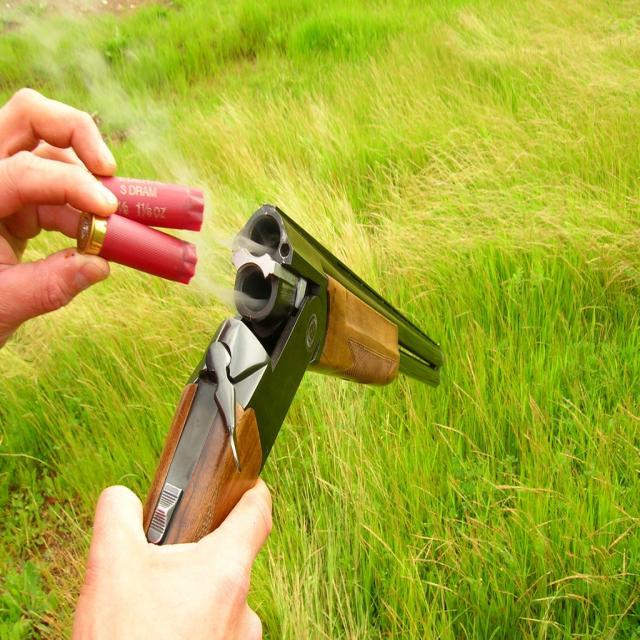weapon: (139, 198, 445, 544)
